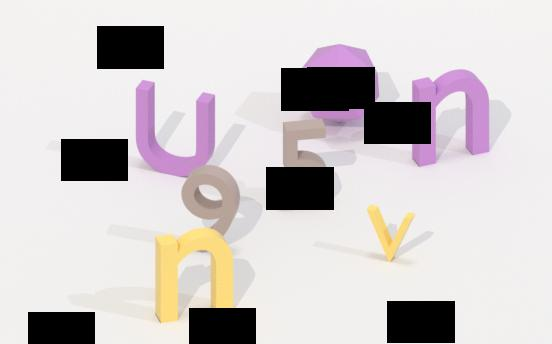5: (273, 119, 333, 213)
9: (180, 163, 245, 244)
dagiac: (287, 44, 386, 122)
n: (147, 227, 245, 324), (404, 68, 500, 167)
u: (131, 77, 218, 182)
v: (362, 200, 420, 267)
